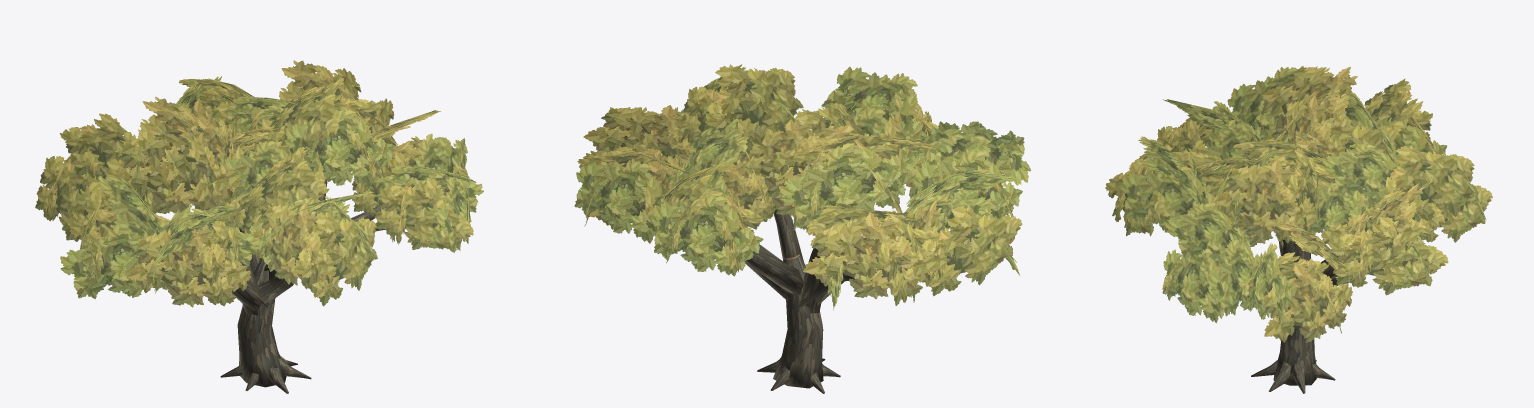
The model's file is nbt_broad_oak.glb.
3 renders of one model, left to right at view 1: azimuth 30°, elevation 25°; view 2: azimuth 150°, elevation 25°; view 3: azimuth 270°, elevation 25°, orthographic. The views are drawn at different scales.
Parts seen in each view (by area): view 1: Broad_Oak_Foliage, Broad_Oak_Wood; view 2: Broad_Oak_Foliage, Broad_Oak_Wood; view 3: Broad_Oak_Foliage, Broad_Oak_Wood.
Boxes of the visible parts, x1,y1,x2,y2 form: Broad_Oak_Foliage: (35, 60, 483, 307); Broad_Oak_Wood: (220, 180, 385, 393); Broad_Oak_Foliage: (574, 64, 1030, 310); Broad_Oak_Wood: (744, 209, 855, 393); Broad_Oak_Foliage: (1105, 66, 1492, 342); Broad_Oak_Wood: (1251, 239, 1349, 393).
Size of the model in its own units: 11.49 by 7.4 by 10.01.
2 materials, 2 textured.
